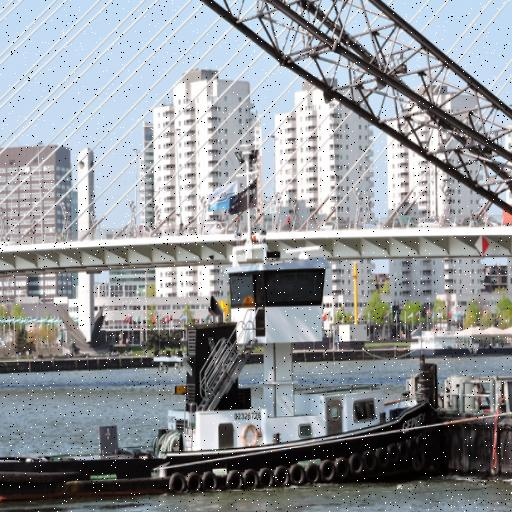tugboat: (1, 252, 470, 512)
